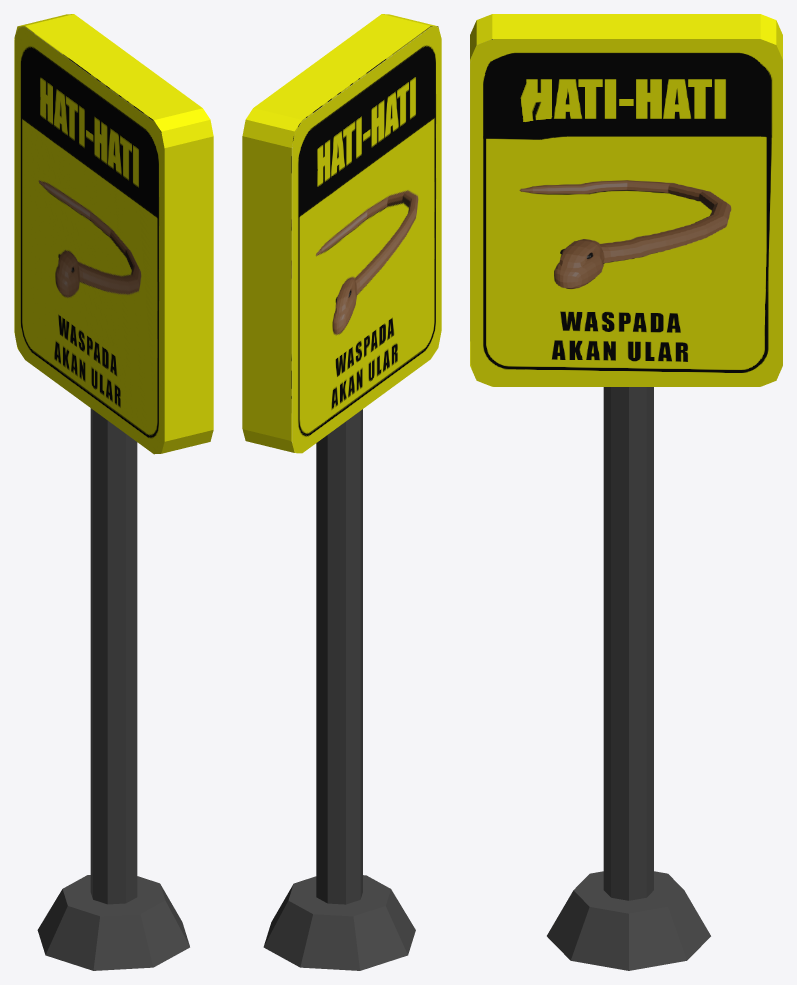
The model's file is Palang_Ular 1.fbx.
3 renders of one model, left to right at view 1: azimuth 30°, elevation 25°; view 2: azimuth 150°, elevation 25°; view 3: azimuth 270°, elevation 25°, orthographic. The views are drawn at different scales.
Parts seen in each view (by area): view 1: Palang Ular; view 2: Palang Ular; view 3: Palang Ular.
Part boxes in pixels (<box>): Palang Ular: <box>14,14,213,970</box>; Palang Ular: <box>242,14,441,970</box>; Palang Ular: <box>470,14,782,970</box>.
Bounding box in the file's own units: 23.55 × 143 × 44.73.
